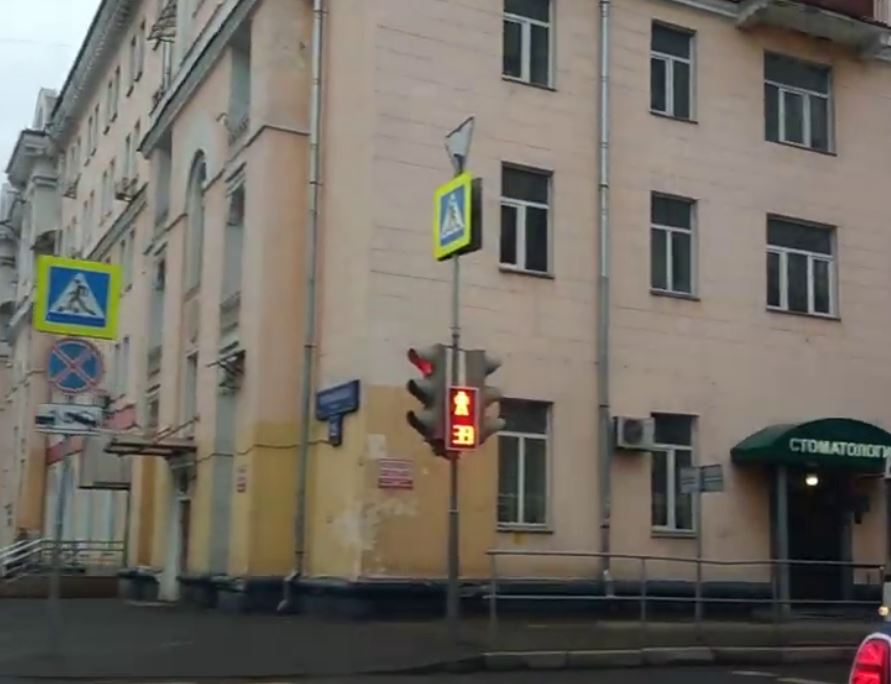Yaya Gecidi: (44, 265, 115, 331)
